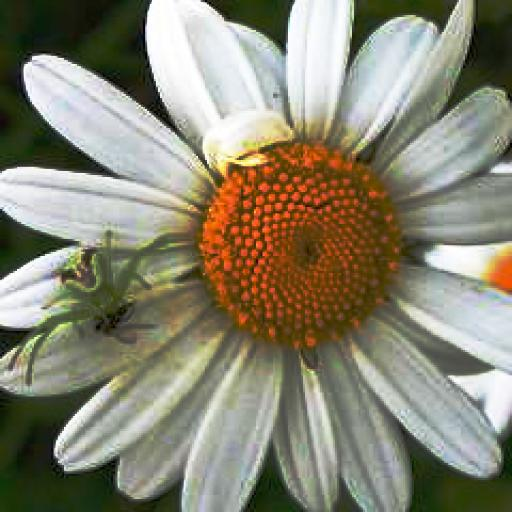daisy: (2, 1, 512, 511)
